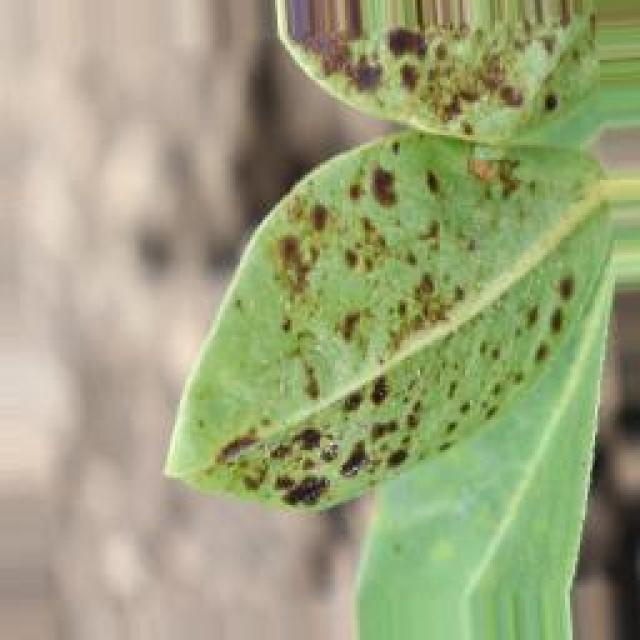Whitefly: (170, 0, 640, 492)
